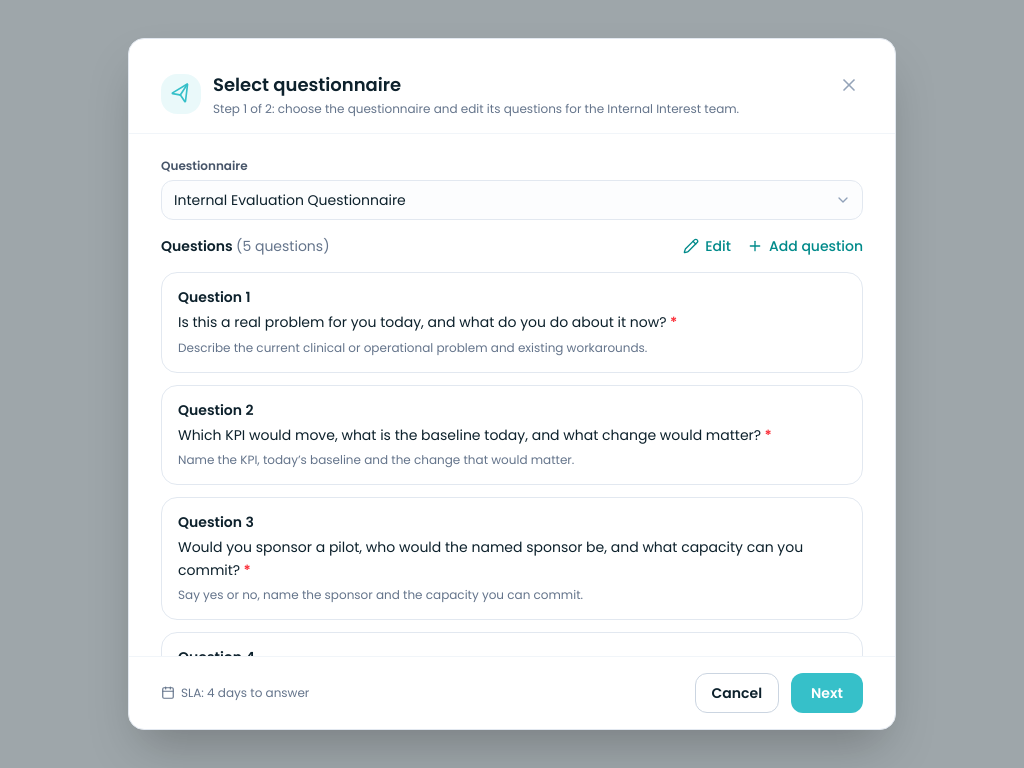
Scenario: SendInternalModal › titles step 2 Select reviewers
The image size is (1024, 768).
Click the button "Next" at (827, 693), box [791, 673, 863, 713]
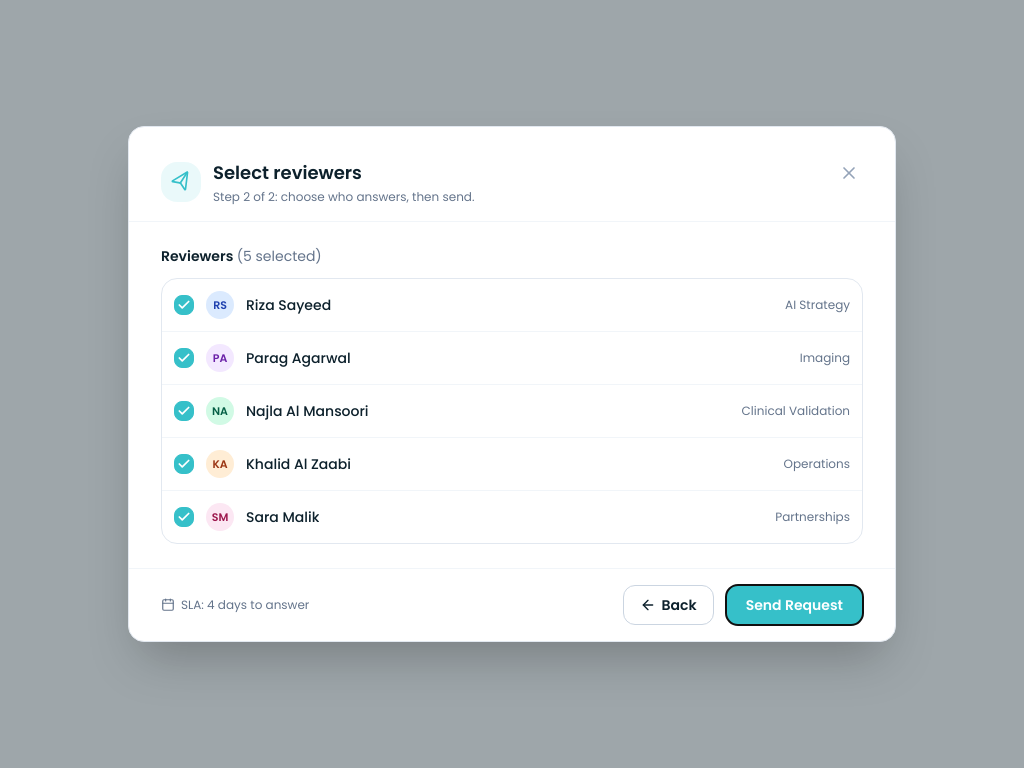
Expected: the dialog "Select reviewers" is shown, [128, 126, 896, 642]
